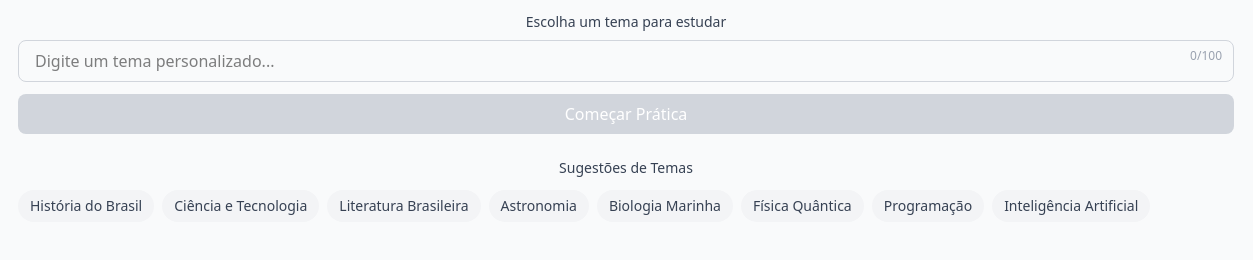
Test case: ThemeSelector › Theme Validation › should show validation error for invalid characters
Type "Test@#$%" into the field with placeholder "Digite um tema personalizado...".
click(626, 61); type("Test@#$%")  # box [18,40,1234,82]
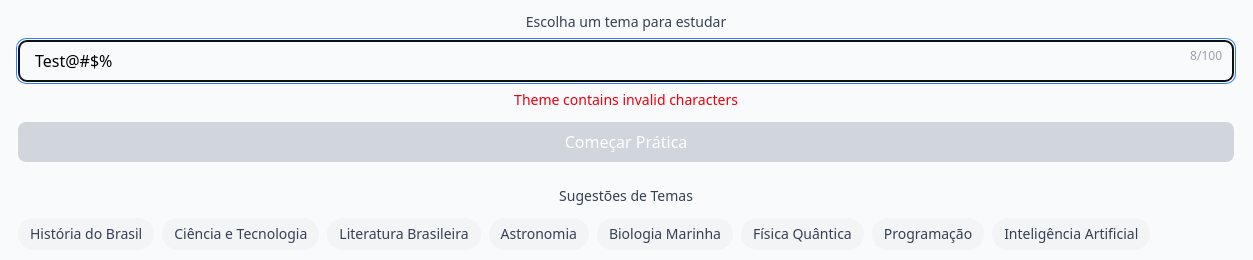
Expected: the message "Theme contains invalid characters" is shown, [514,90,738,109]
